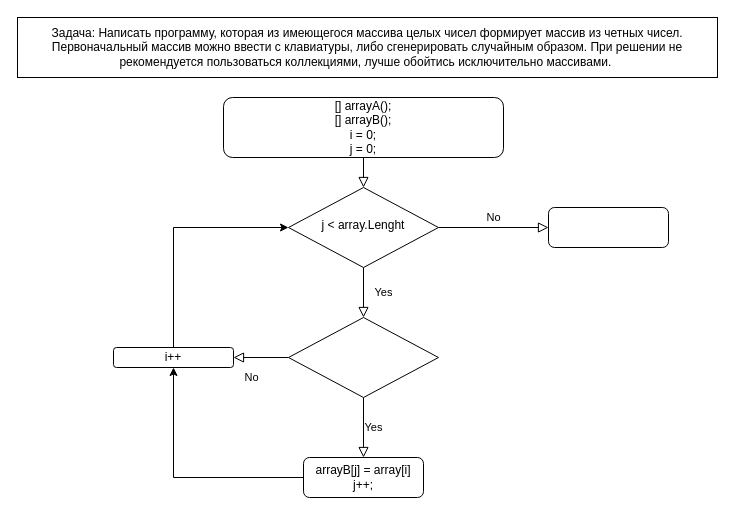
Image size: 735x515. Some labels were removed from this diagram. Here are the shapes that lost their labels. From the top down, the centre of each, then its label:
pixel 608 227: Print [] arrayB()
pixel 363 357: array[i] % 2 == 0?
